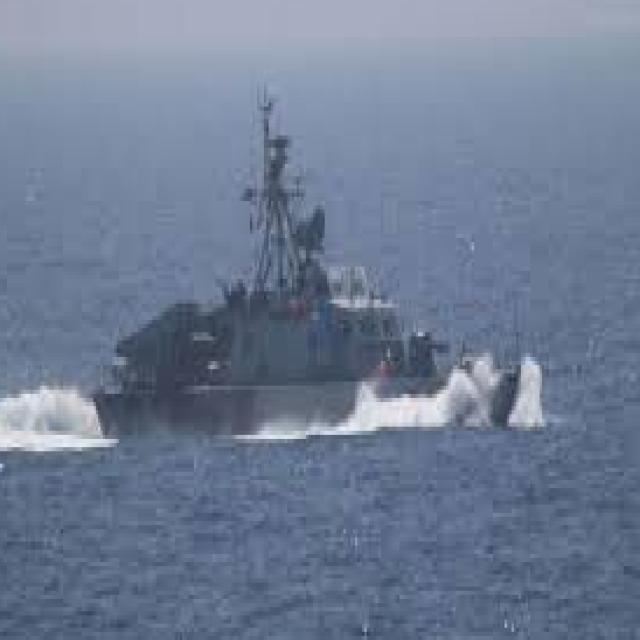navalvessels: (91, 64, 536, 469)
